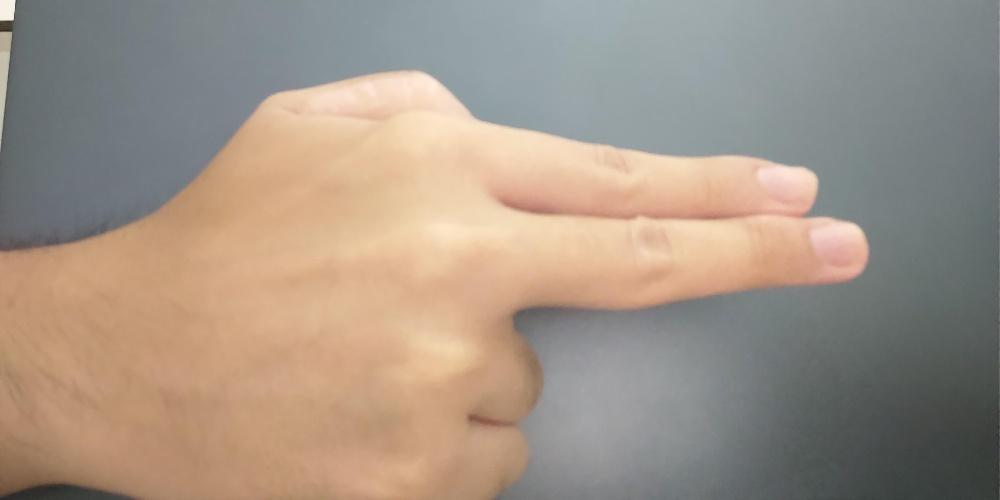h: (0, 66, 869, 499)
